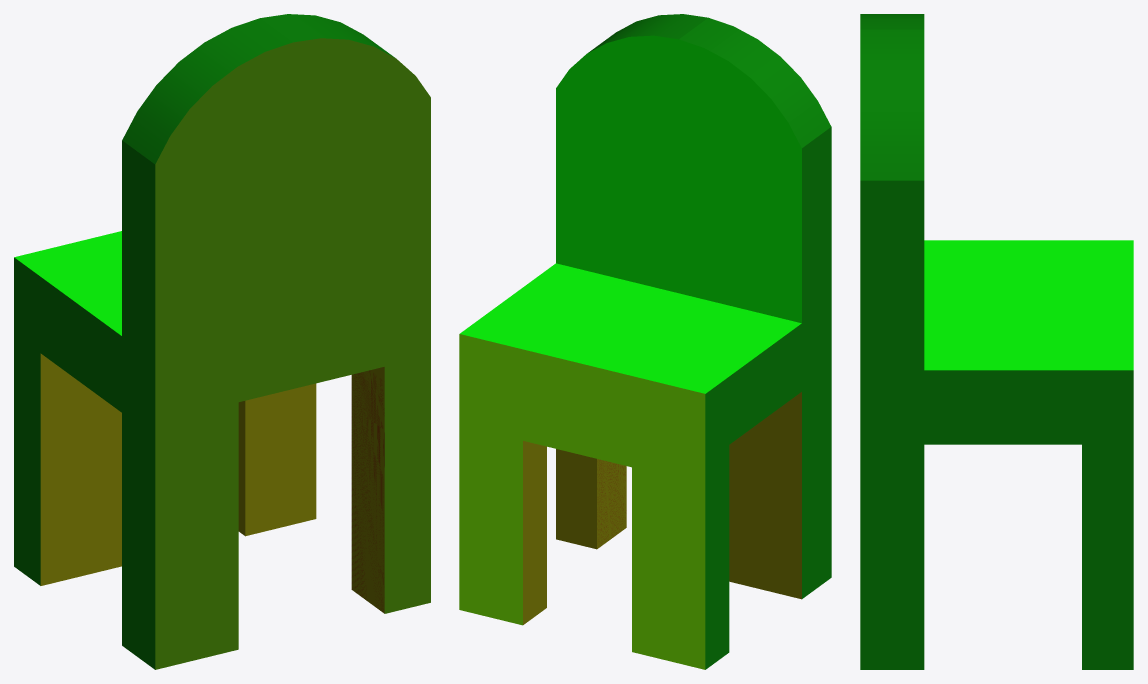
3 views of the same model, side by side, from view 1: azimuth 30°, elevation 25°; view 2: azimuth 150°, elevation 25°; view 3: azimuth 270°, elevation 25° (orthographic). The views are drawn at different scales.
Visible parts, largest first — view 1: SketchUp_ID72, SketchUp_ID10, SketchUp_ID40, SketchUp_ID114, SketchUp_ID18; view 2: SketchUp_ID18, SketchUp_ID52, SketchUp_ID10, SketchUp_ID98, SketchUp_ID40, SketchUp_ID26, SketchUp_ID114; view 3: SketchUp_ID10, SketchUp_ID18.
Boxes of the visible parts, <box> form: SketchUp_ID72: <box>155,38,430,669</box>; SketchUp_ID10: <box>14,14,394,669</box>; SketchUp_ID40: <box>40,353,316,585</box>; SketchUp_ID114: <box>351,370,384,613</box>; SketchUp_ID18: <box>14,231,121,335</box>; SketchUp_ID18: <box>460,35,801,393</box>; SketchUp_ID52: <box>459,334,705,669</box>; SketchUp_ID10: <box>588,14,831,669</box>; SketchUp_ID98: <box>729,392,801,599</box>; SketchUp_ID40: <box>523,441,546,624</box>; SketchUp_ID26: <box>556,449,596,549</box>; SketchUp_ID114: <box>597,459,626,548</box>; SketchUp_ID10: <box>860,14,1133,669</box>; SketchUp_ID18: <box>924,240,1133,370</box>.
Bounding box in the file's own units: 0.4073 × 0.8387 × 0.3615.
